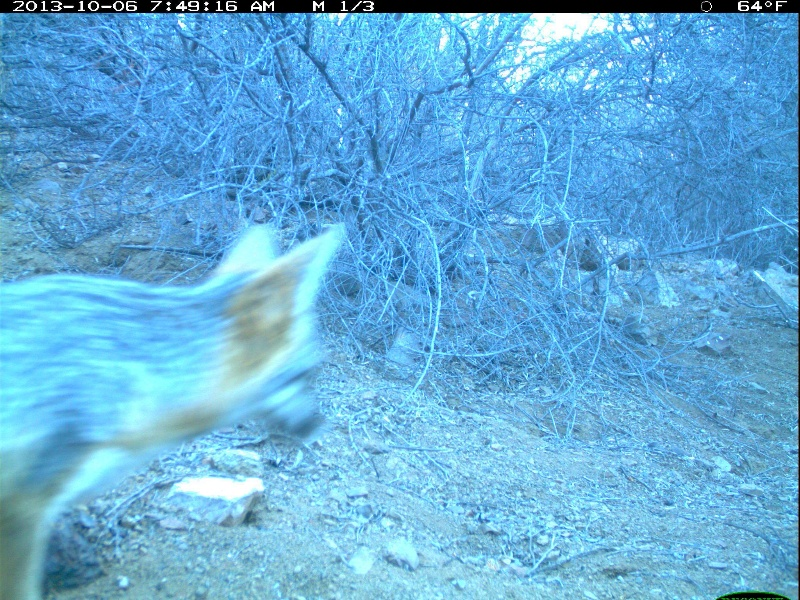coyote: (1, 217, 352, 595)
